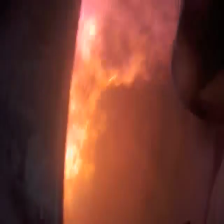fire_h: (63, 121, 88, 180), (79, 2, 98, 58)
fire_l: (106, 71, 119, 86), (69, 100, 75, 114)
